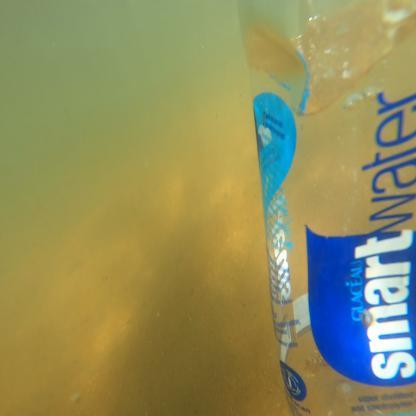Rác: (263, 0, 416, 416)
